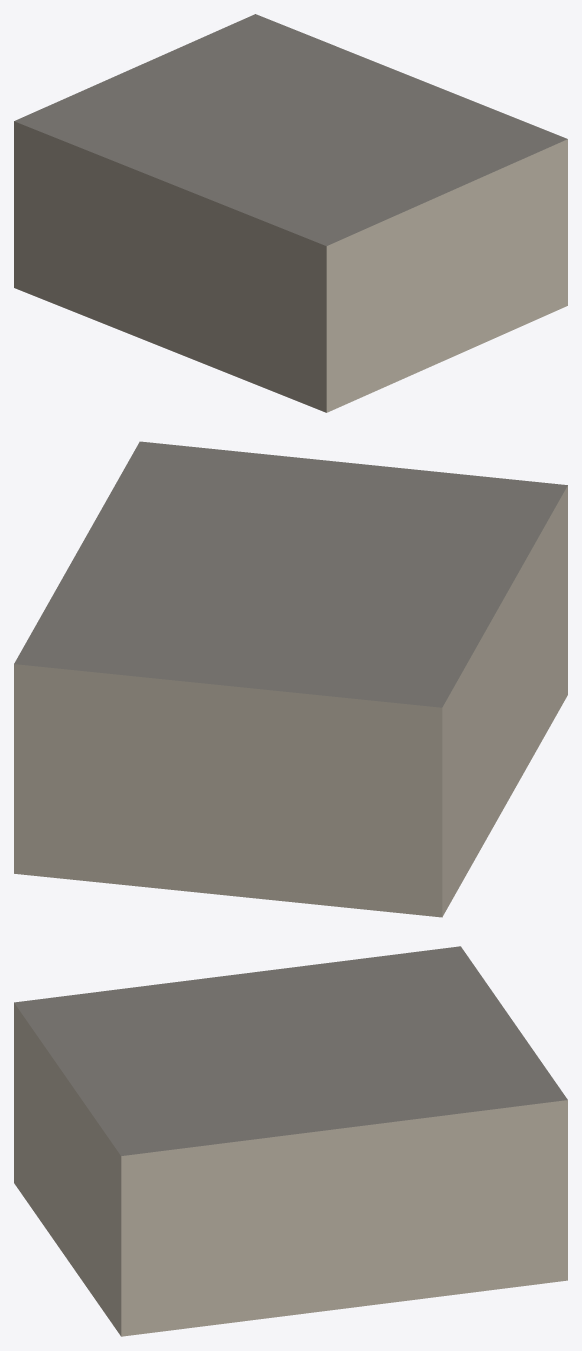
3 views of the same model, one above another, from view 1: azimuth 30°, elevation 25°; view 2: azimuth 150°, elevation 25°; view 3: azimuth 270°, elevation 25° (orthographic). The views are drawn at different scales.
Parts seen in each view (by area): view 1: HP-w859488664; view 2: HP-w859488664; view 3: HP-w859488664.
Part boxes in pixels (left/top/right/bottom): HP-w859488664: left=14, top=14, right=567, bottom=412; HP-w859488664: left=14, top=441, right=567, bottom=917; HP-w859488664: left=14, top=946, right=567, bottom=1336.
Size of the model in its own units: 37.4 by 15 by 41.71.
